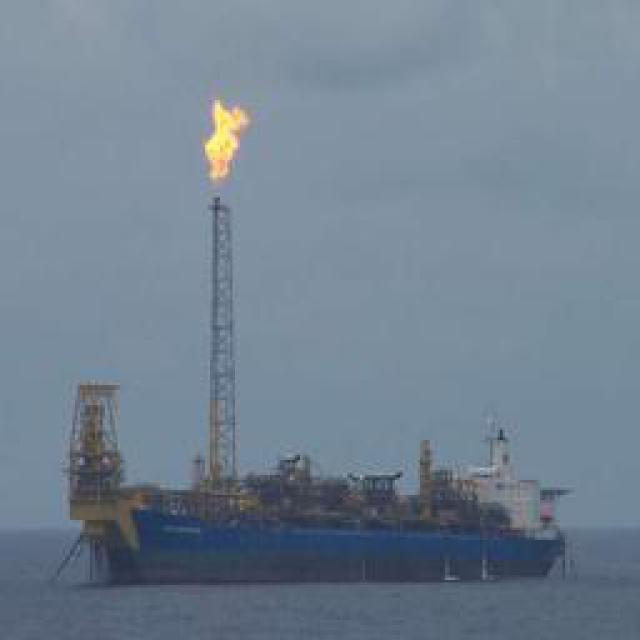Ship: (90, 429, 578, 582)
